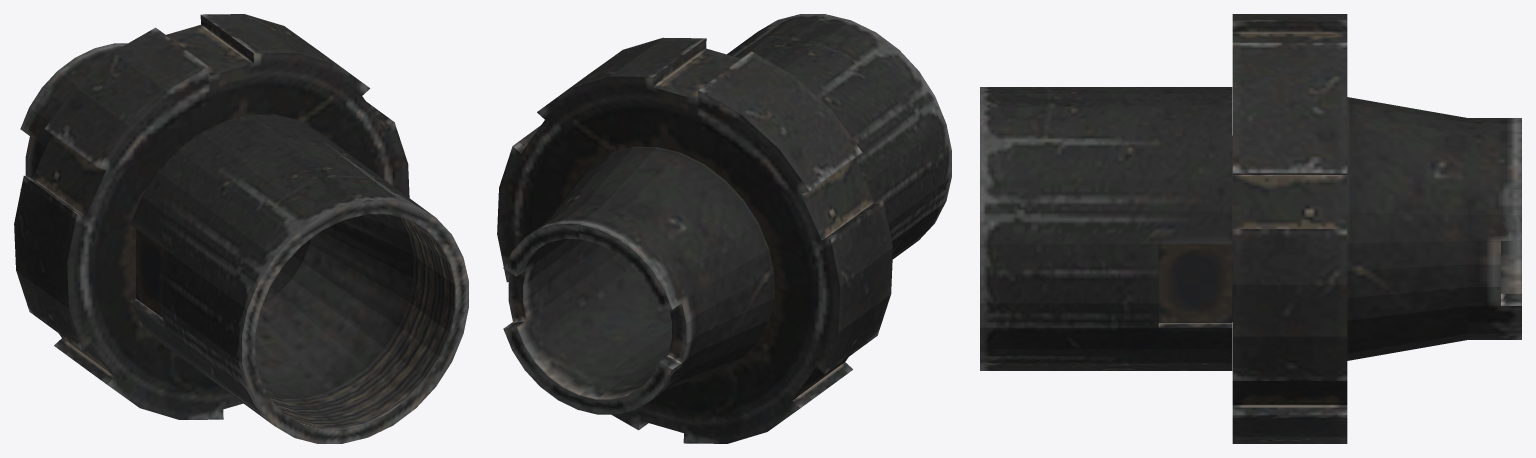
The picture shows the model from 3 angles, left to right: view 1: azimuth 30°, elevation 25°; view 2: azimuth 150°, elevation 25°; view 3: azimuth 270°, elevation 25°; orthographic projection. The views are drawn at different scales.
Parts seen in each view (by area): view 1: TW_5b363e1b5acfc4771e1c5e80_PZ_Import; view 2: TW_5b363e1b5acfc4771e1c5e80_PZ_Import; view 3: TW_5b363e1b5acfc4771e1c5e80_PZ_Import.
Part boxes in pixels (<box>): TW_5b363e1b5acfc4771e1c5e80_PZ_Import: <box>14,14,468,443</box>; TW_5b363e1b5acfc4771e1c5e80_PZ_Import: <box>497,14,951,443</box>; TW_5b363e1b5acfc4771e1c5e80_PZ_Import: <box>980,14,1521,443</box>.
Size of the model in its own units: 0.0205 by 0.0259 by 0.0205.
1 material, 1 textured.
